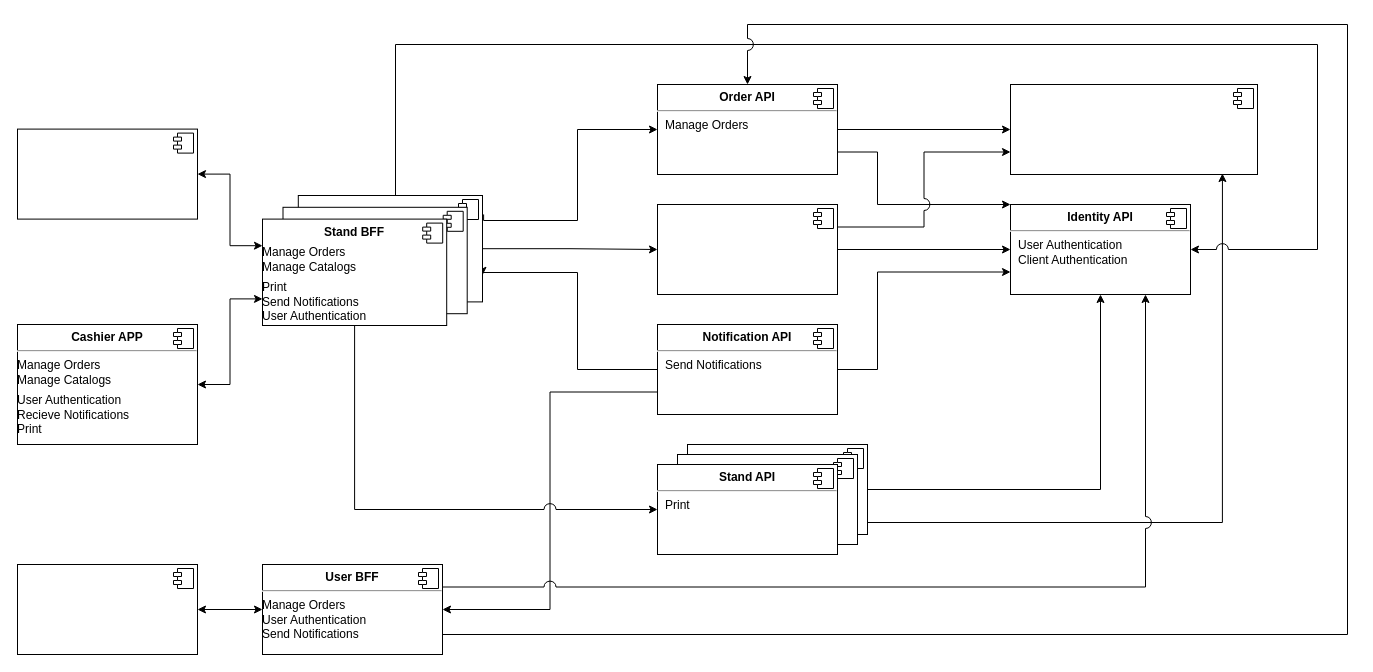
The diagram is 1373 pixels wide and 672 high, and some of its shapes have lost their labels. Each missing label, with the box of its shape:
Broker: (1010, 84, 1258, 174)
Catalog API Manage Catalogs: (656, 204, 838, 294)
User APP Manage Orders User Authentication Recieve Notifications: (16, 564, 198, 654)
Waiter APP Manage Orders User Authentication Recieve Notifications: (16, 128, 198, 219)
